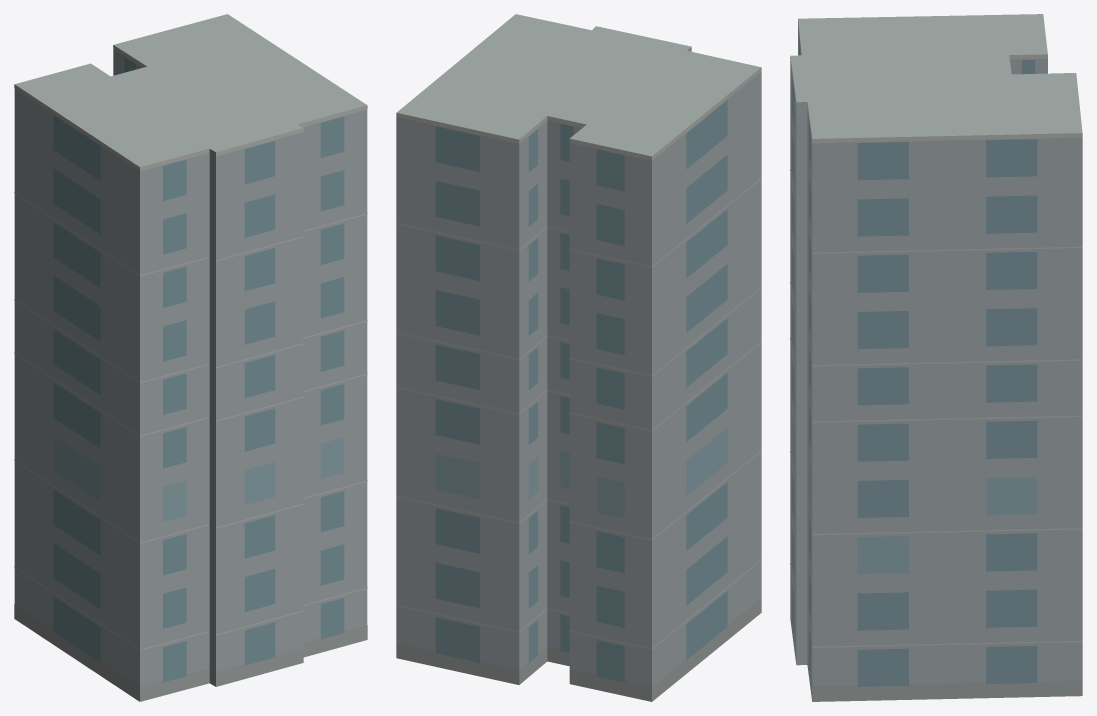
The model's file is survey-upis-32744878.glb.
3 views of the same model, side by side, from view 1: azimuth 30°, elevation 25°; view 2: azimuth 150°, elevation 25°; view 3: azimuth 270°, elevation 25° (orthographic). The views are drawn at different scales.
Parts seen in each view (by area): view 1: survey-upis-32744878.tmp; view 2: survey-upis-32744878.tmp; view 3: survey-upis-32744878.tmp.
Part boxes in pixels (box(x1,y1,x2,y2)): survey-upis-32744878.tmp: box(14, 14, 367, 701); survey-upis-32744878.tmp: box(396, 14, 761, 701); survey-upis-32744878.tmp: box(790, 14, 1082, 701).
Size of the model in its own units: 14.93 by 31.3 by 14.75.
